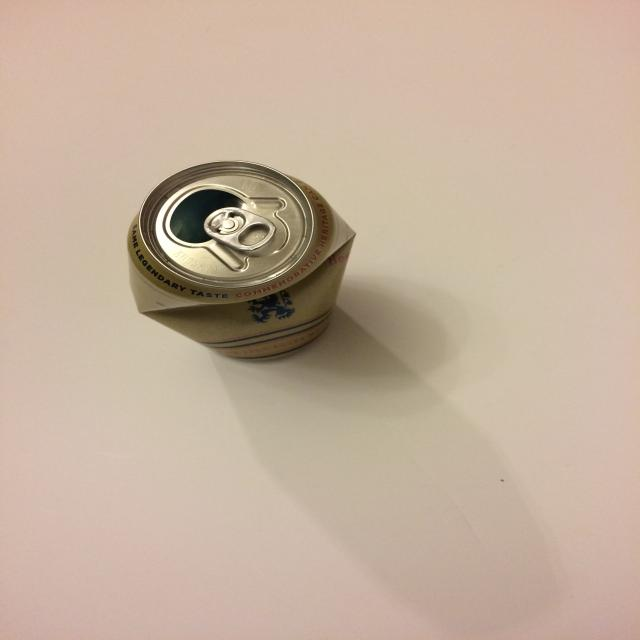Metal: (117, 150, 372, 368)
